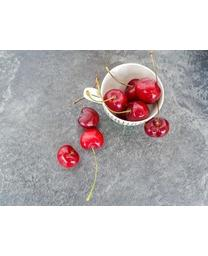cherry: (134, 78, 162, 103), (103, 89, 127, 112), (144, 116, 169, 138), (57, 144, 80, 167), (81, 128, 103, 149), (77, 107, 100, 127), (124, 79, 144, 102), (126, 101, 150, 120)
